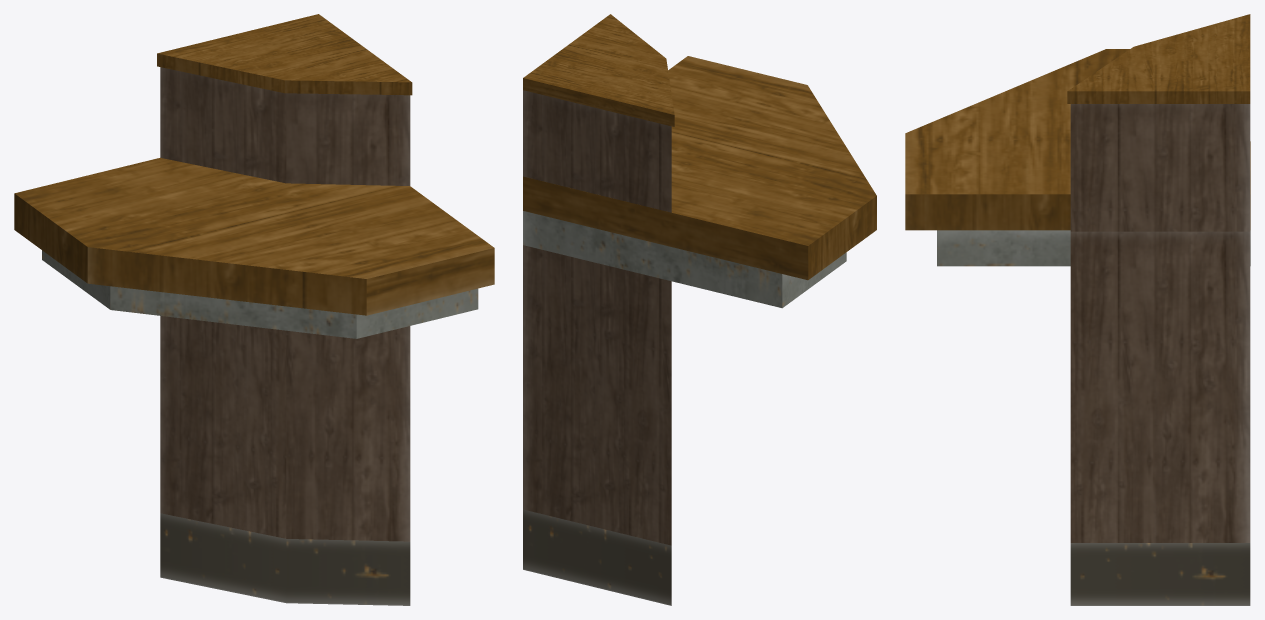
The model's file is tablecounter01c.fbx.
3 renders of one model, left to right at view 1: azimuth 30°, elevation 25°; view 2: azimuth 150°, elevation 25°; view 3: azimuth 270°, elevation 25°, orthographic. The views are drawn at different scales.
Visible parts, largest first — view 1: tablecounter01c; view 2: tablecounter01c; view 3: tablecounter01c.
Boxes of the visible parts, bbox=[...] form: tablecounter01c: bbox=[14, 14, 494, 605]; tablecounter01c: bbox=[523, 14, 876, 605]; tablecounter01c: bbox=[905, 14, 1250, 605].
Bounding box in the file's own units: 66.42 × 109 × 66.52.
